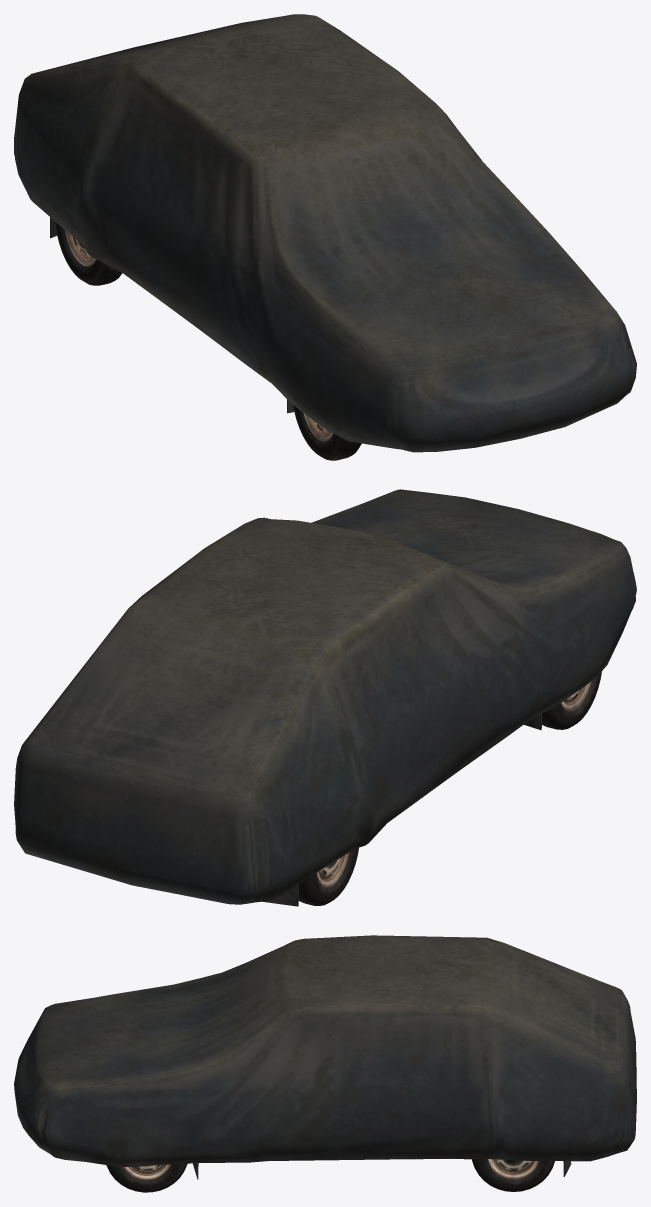
Rendered from covered_car.glb.
3 renders of one model, top to bottom at view 1: azimuth 30°, elevation 25°; view 2: azimuth 150°, elevation 25°; view 3: azimuth 270°, elevation 25°, orthographic. The views are drawn at different scales.
Visible parts, largest first — view 1: covered_car, covered_car_wheel_03, covered_car_wheel_02; view 2: covered_car, covered_car_wheel_03, covered_car_wheel_02; view 3: covered_car, covered_car_wheel_04, covered_car_wheel_01.
Boxes of the visible parts, x1=… form: covered_car: x1=14, y1=14, x2=636, y2=452; covered_car_wheel_03: x1=55, y1=222, x2=122, y2=285; covered_car_wheel_02: x1=293, y1=405, x2=361, y2=460; covered_car: x1=14, y1=489, x2=636, y2=906; covered_car_wheel_03: x1=298, y1=847, x2=358, y2=905; covered_car_wheel_02: x1=542, y1=671, x2=601, y2=729; covered_car: x1=14, y1=935, x2=636, y2=1179; covered_car_wheel_04: x1=472, y1=1159, x2=554, y2=1191; covered_car_wheel_01: x1=106, y1=1163, x2=187, y2=1192.
Bounding box in the file's own units: 1.79 × 1.41 × 4.38.
Materials: 2 (2 with a texture image).
